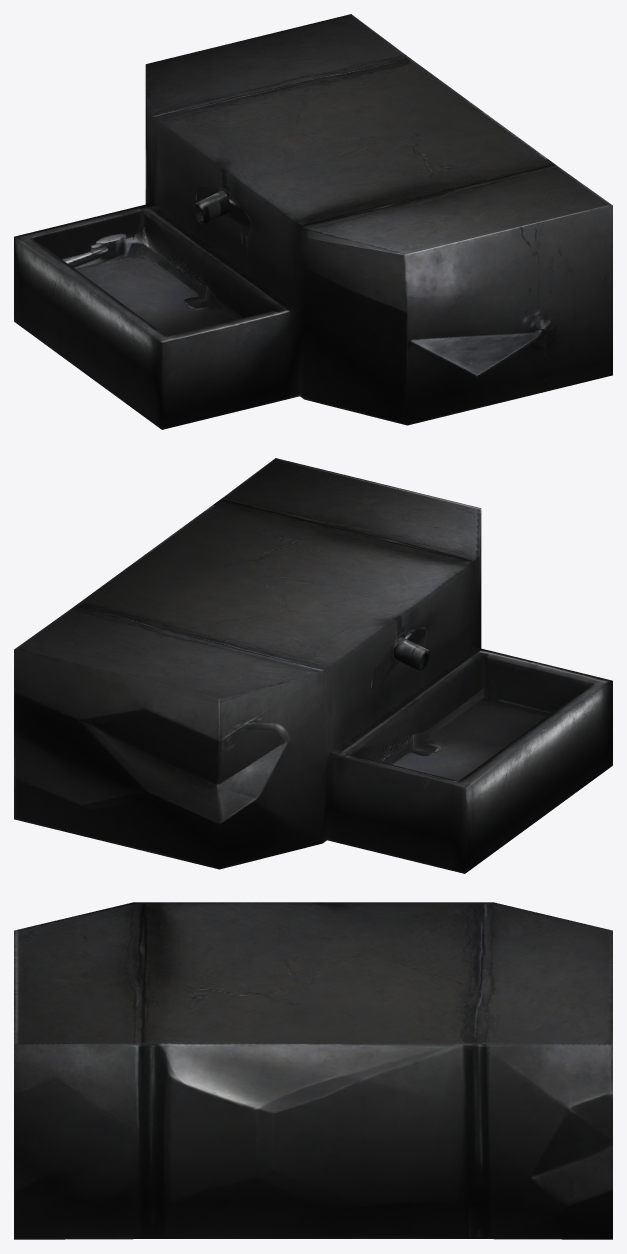
The model's file is _0609202152_texture.fbx.
3 views of the same model, one above another, from view 1: azimuth 30°, elevation 25°; view 2: azimuth 150°, elevation 25°; view 3: azimuth 270°, elevation 25° (orthographic). The views are drawn at different scales.
Parts seen in each view (by area): view 1: pCylinder5; view 2: pCylinder5; view 3: pCylinder5.
Part boxes in pixels (x1,y1,x2,y2): pCylinder5: (14, 14, 612, 429); pCylinder5: (14, 458, 612, 873); pCylinder5: (14, 902, 612, 1239).
Size of the model in its own units: 174 by 71.6 by 200.
1 material, 1 textured.
